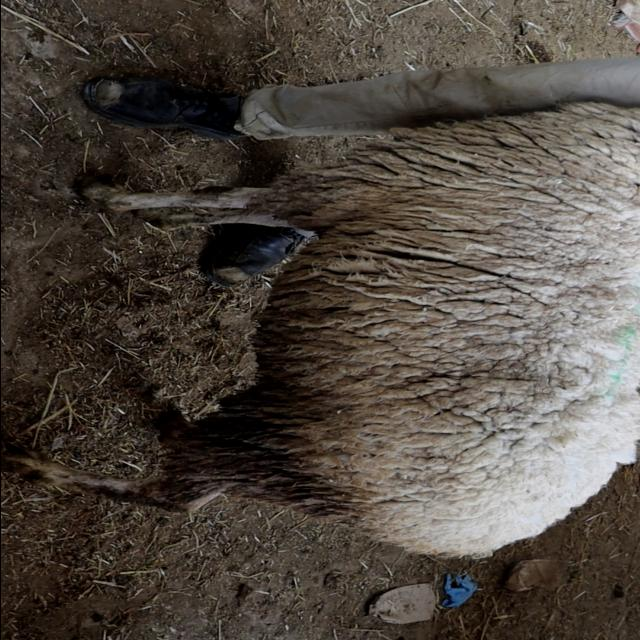Score_3: (3, 102, 640, 557)
